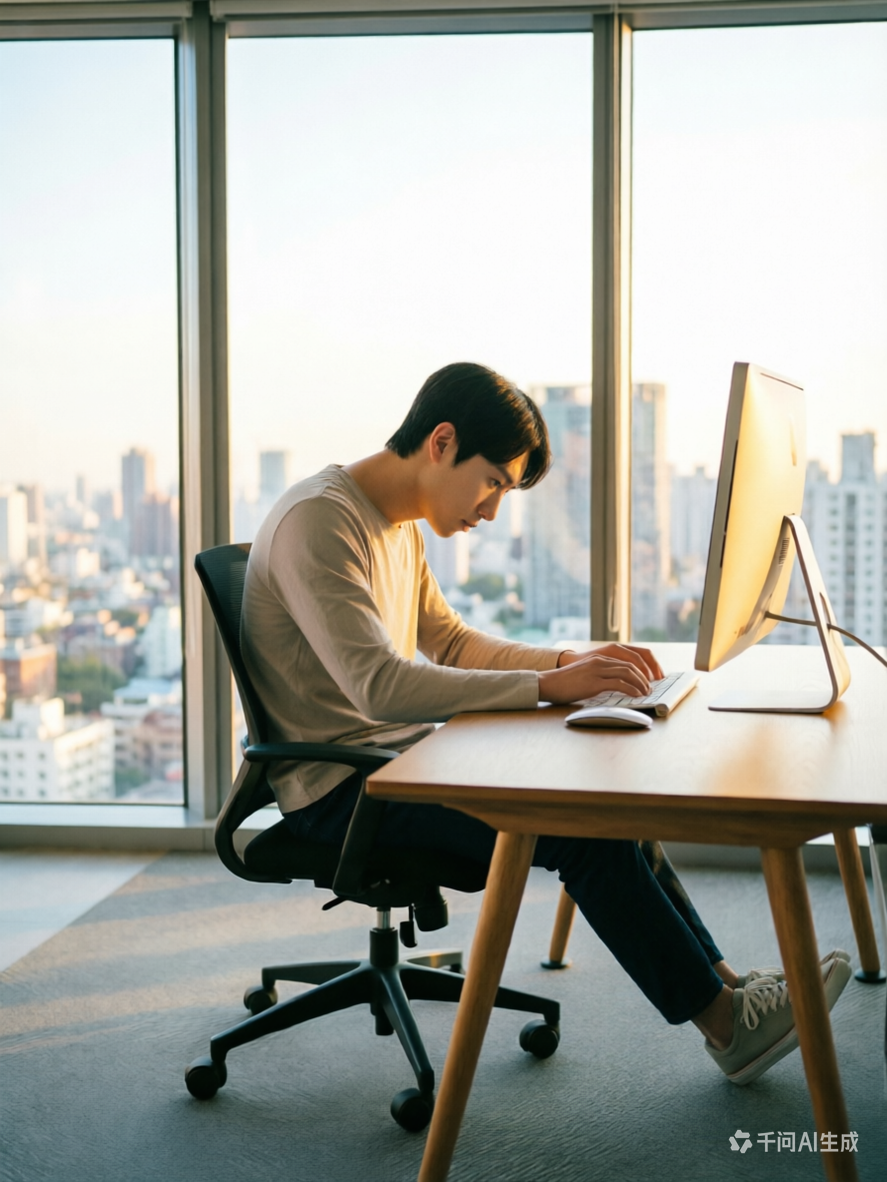sitting_bad: (234, 361, 630, 938)
